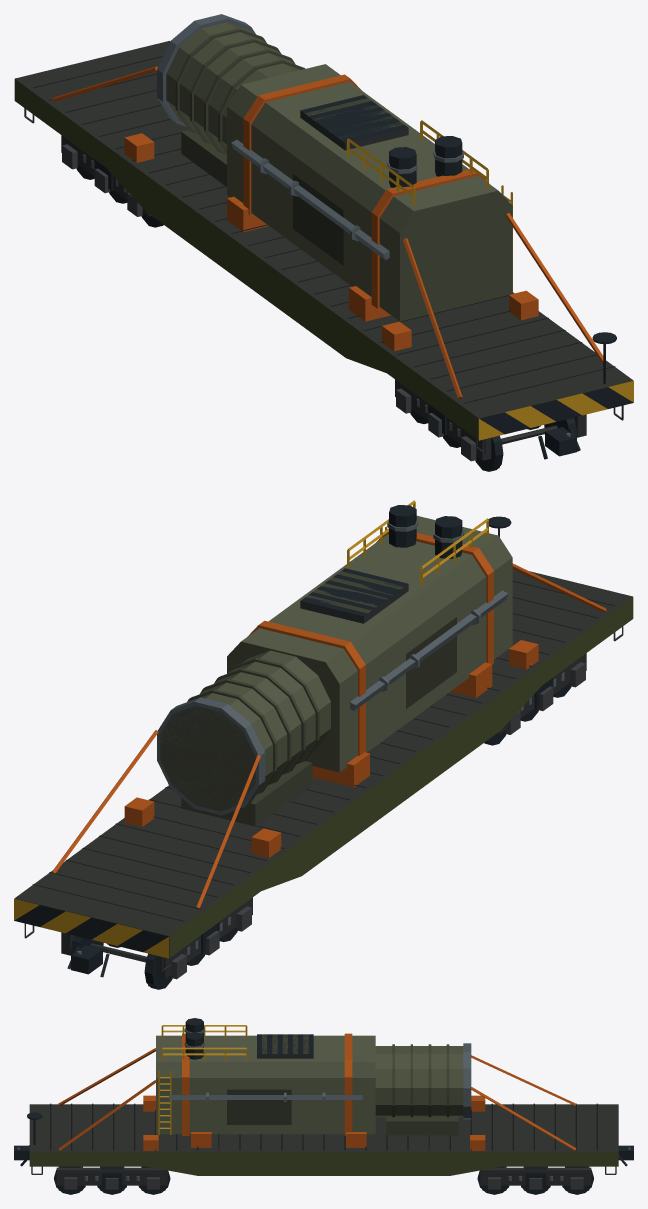
File: heavy-flatbed.glb
The picture shows the model from 3 angles, top to bottom: view 1: azimuth 30°, elevation 25°; view 2: azimuth 150°, elevation 25°; view 3: azimuth 270°, elevation 25°; orthographic projection. The views are drawn at different scales.
Parts seen in each view (by area): view 1: heavy-flatbed (×2); view 2: heavy-flatbed (×2); view 3: heavy-flatbed (×2).
Boxes of the visible parts, x1,y1,x2,y2 form: heavy-flatbed (×2): (14,14,633,471); heavy-flatbed (×2): (14,500,633,989); heavy-flatbed (×2): (14,1018,633,1194).
Bounding box in the file's own units: 8.8 × 13.1 × 48.
